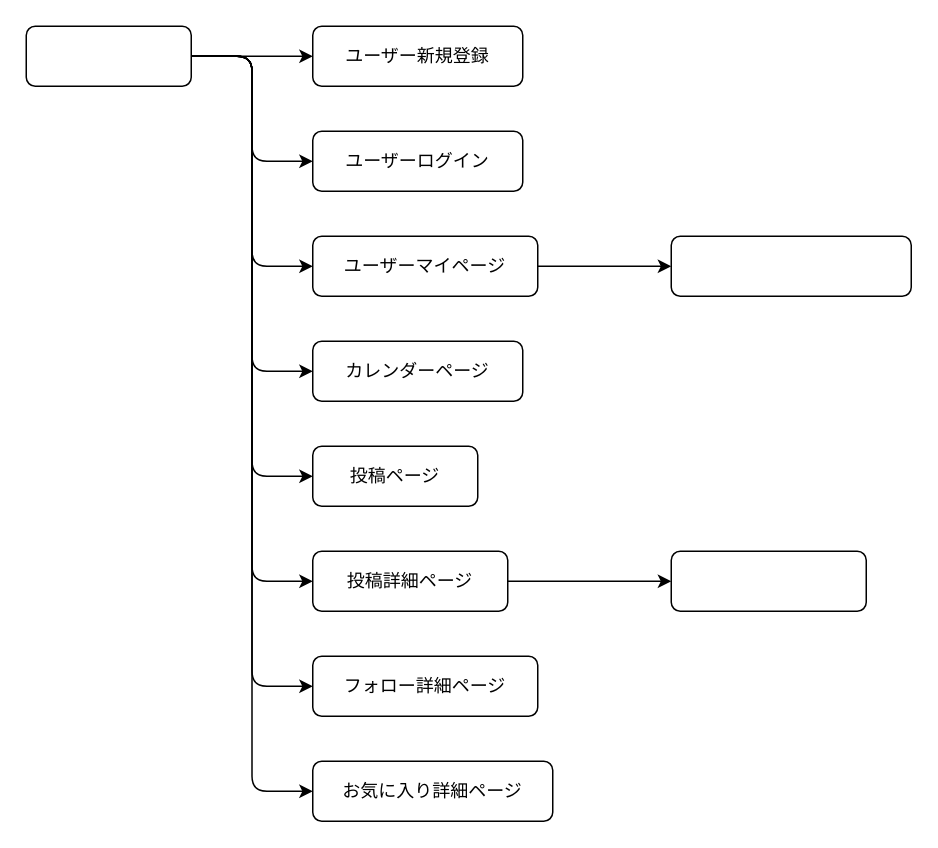
This 938x848 diagram has some shape labels left out. Here are the shapes that lost their labels. From the top down, the centre of each, then its label:
At [108,55]: "一覧ページ".
At [790,265]: "マイページ編集ページ".
At [768,580]: "投稿編集ページ".
